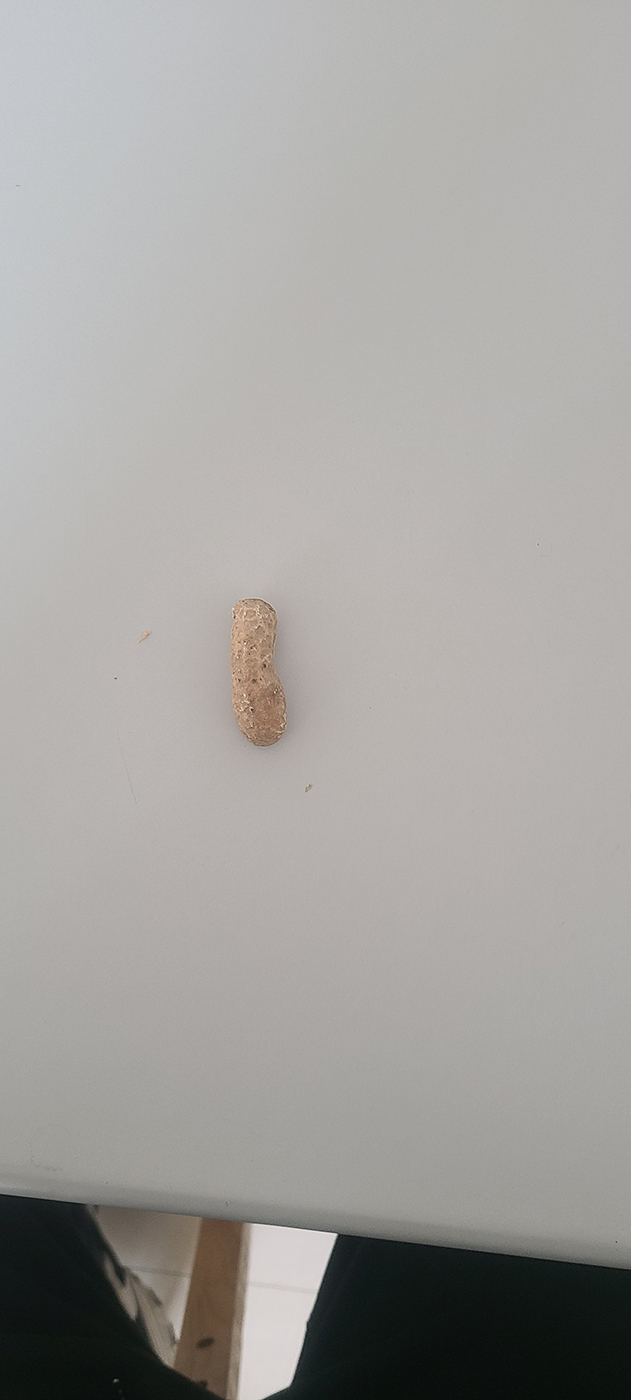h: (225, 596, 289, 753)
